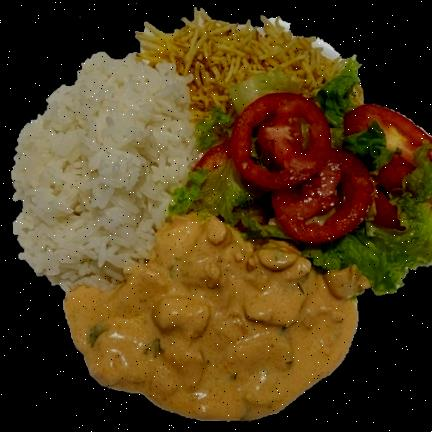chicken: (65, 215, 366, 420)
potato: (137, 8, 344, 120)
rice: (11, 52, 197, 291)
salad: (297, 138, 432, 293), (169, 174, 285, 239), (314, 58, 359, 147), (349, 127, 392, 177), (199, 110, 231, 146)
tomato: (196, 93, 432, 243)
